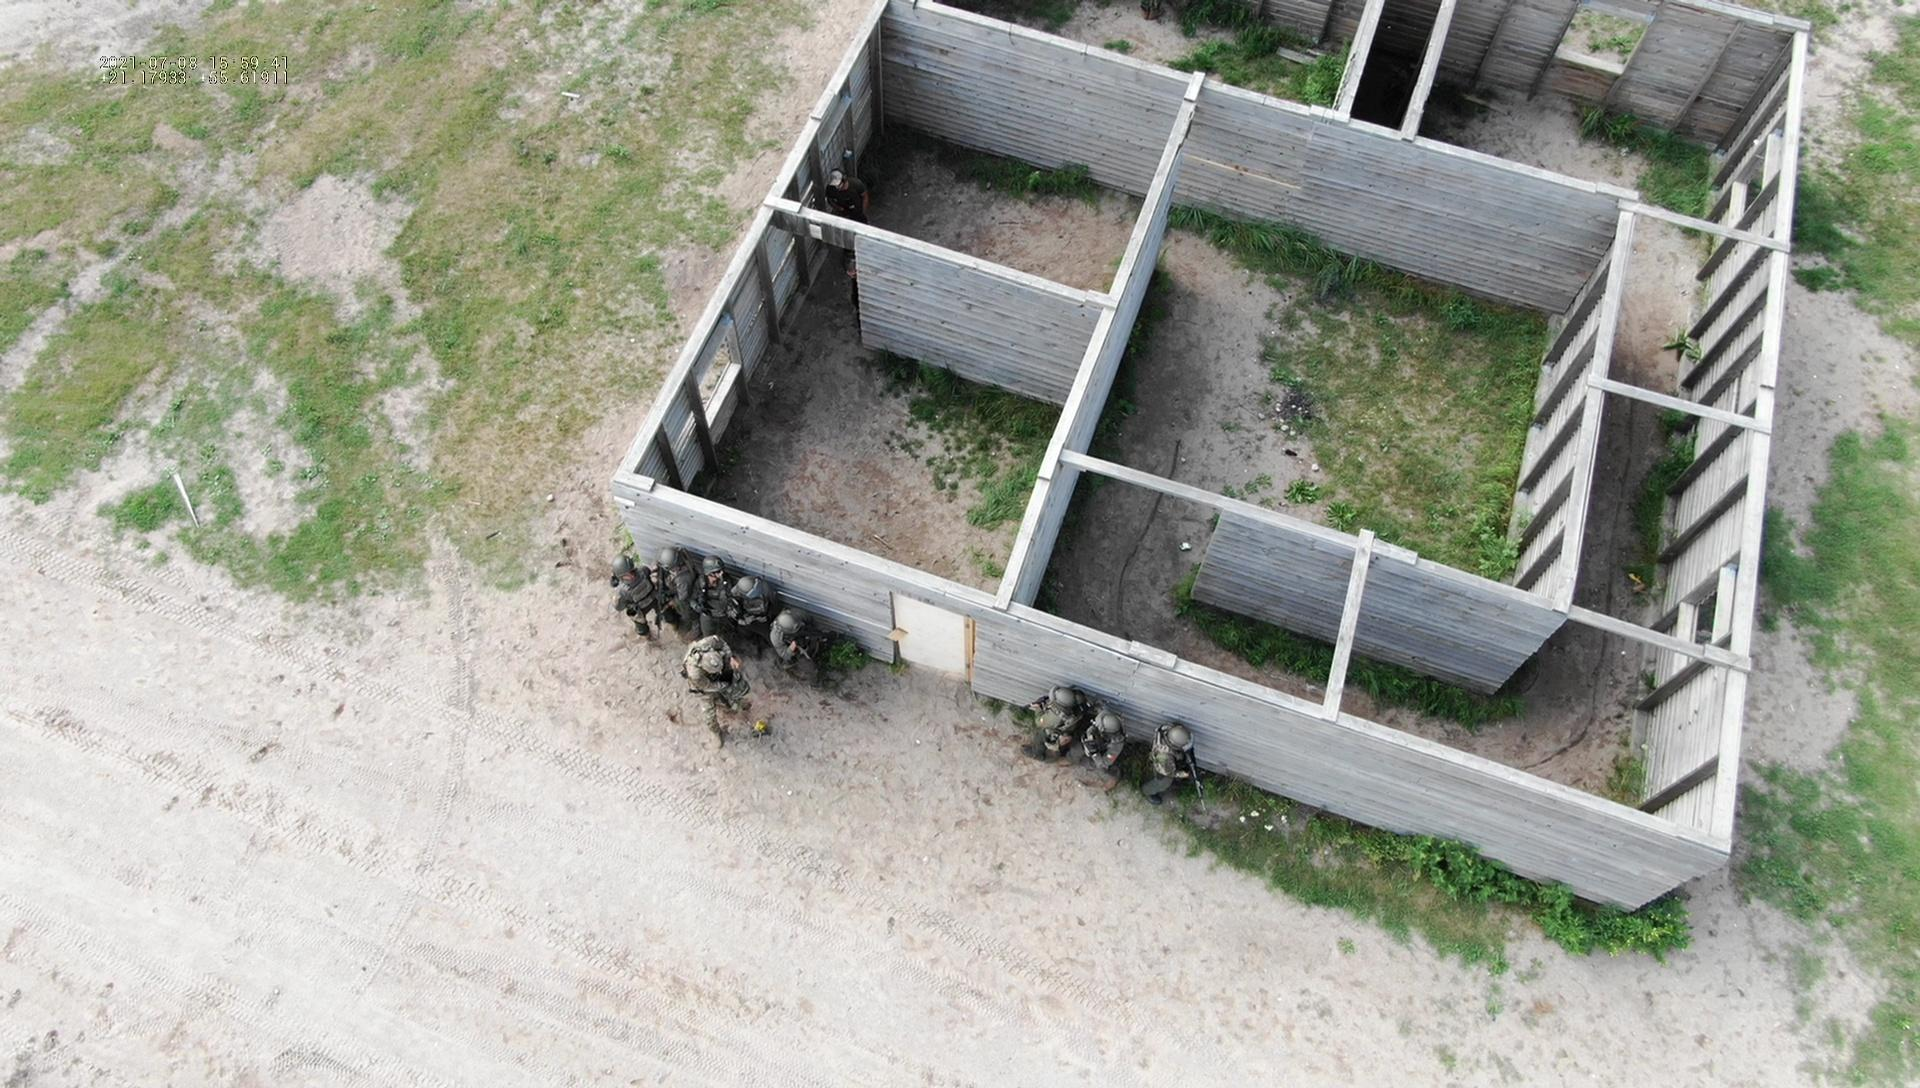Soldier: (669, 636, 769, 744), (1142, 717, 1218, 828), (762, 599, 833, 688), (603, 553, 669, 649), (654, 543, 703, 644), (1022, 678, 1079, 762), (1080, 706, 1131, 791), (694, 549, 742, 630), (729, 568, 785, 640)
